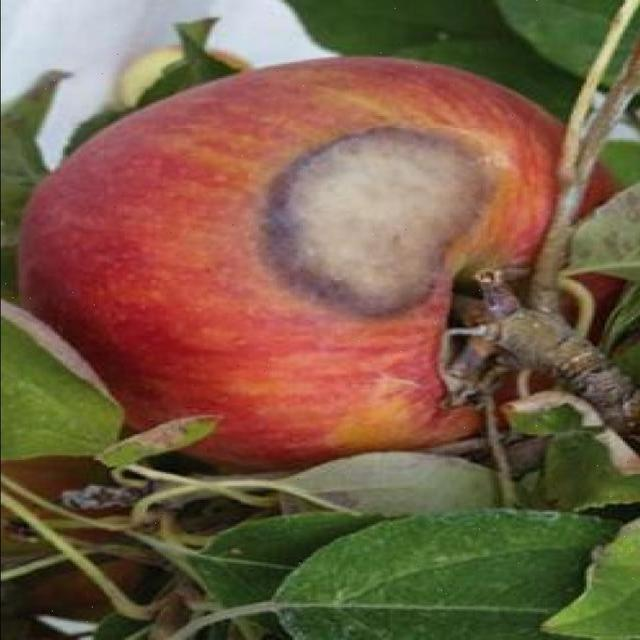Sunscald Fruit: (180, 88, 326, 206)
